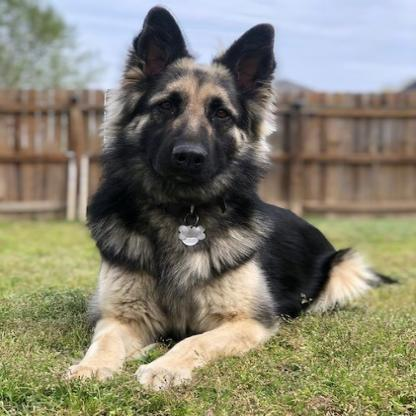german shepherd: (66, 12, 393, 388)
